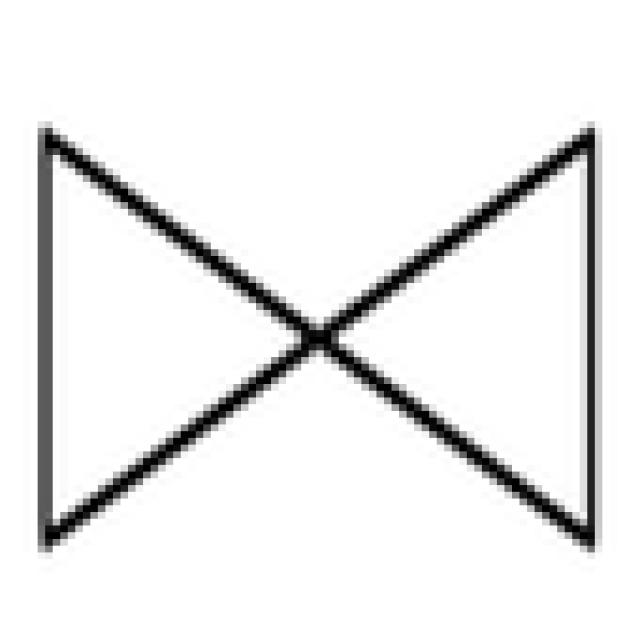Gate valve: (38, 128, 587, 539)
